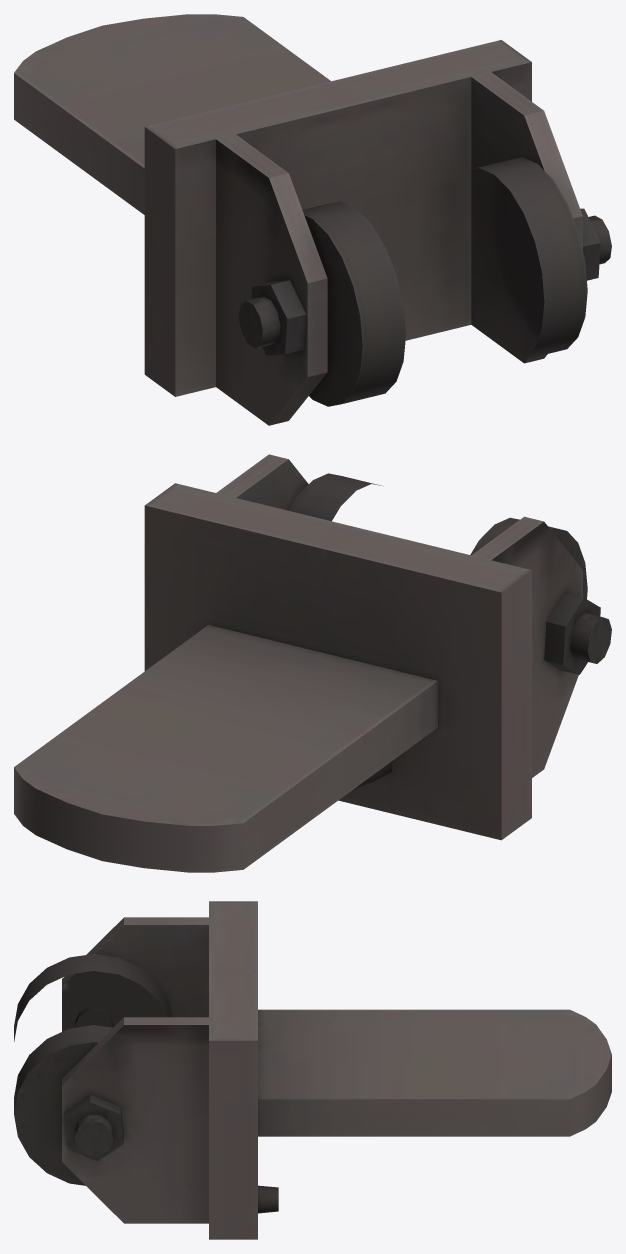
3 renders of one model, top to bottom at view 1: azimuth 30°, elevation 25°; view 2: azimuth 150°, elevation 25°; view 3: azimuth 270°, elevation 25°, orthographic. The views are drawn at different scales.
Visible parts, largest first — view 1: body0_model0_lod0_mesh0; view 2: body0_model0_lod0_mesh0; view 3: body0_model0_lod0_mesh0.
Part boxes in pixels (box(x1,y1,x2,y2)): body0_model0_lod0_mesh0: box(14, 14, 611, 425); body0_model0_lod0_mesh0: box(14, 454, 611, 872); body0_model0_lod0_mesh0: box(14, 901, 611, 1239).
Size of the model in its own units: 96.98 by 64.38 by 176.
1 material, 1 textured.
